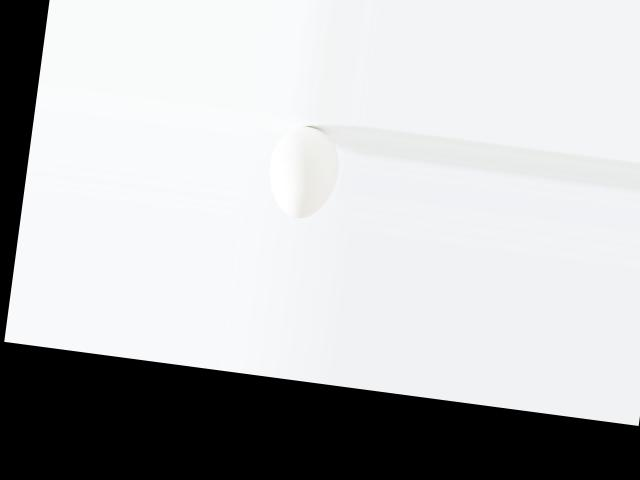egg: (262, 122, 342, 222)
